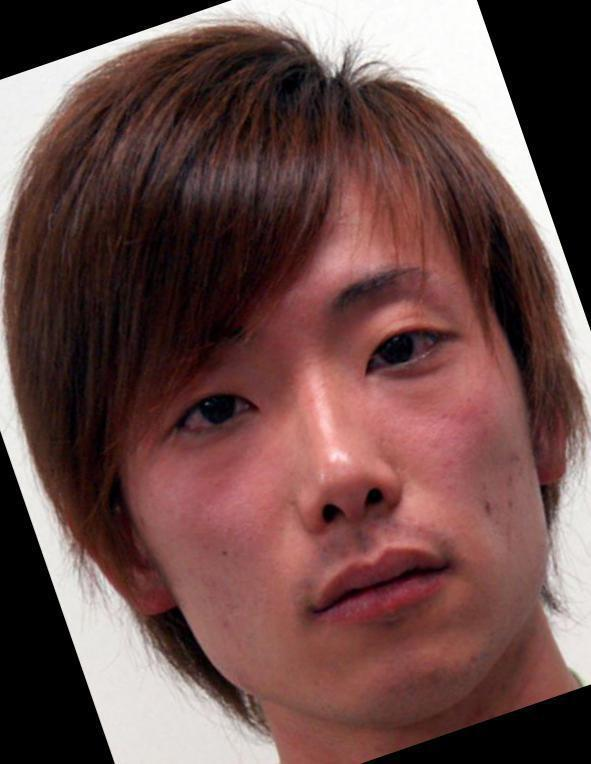Drunk: (132, 227, 527, 699)
